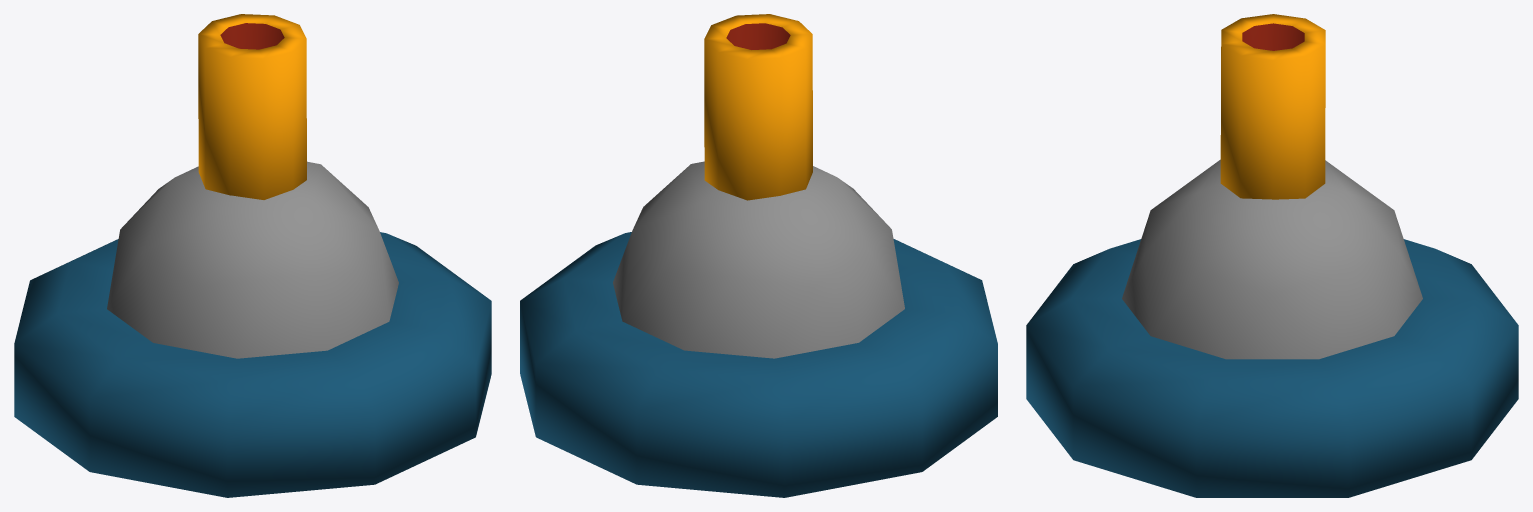
Rendered from turret.glb.
3 views of the same model, side by side, from view 1: azimuth 30°, elevation 25°; view 2: azimuth 150°, elevation 25°; view 3: azimuth 270°, elevation 25° (orthographic).
Visible parts, largest first — view 1: TurretBase, Cannon; view 2: TurretBase, Cannon; view 3: TurretBase, Cannon.
Part boxes in pixels (left/top/right/bottom): TurretBase: left=14, top=161, right=491, bottom=497; Cannon: left=198, top=14, right=306, bottom=199; TurretBase: left=520, top=161, right=997, bottom=497; Cannon: left=704, top=14, right=812, bottom=200; TurretBase: left=1026, top=159, right=1518, bottom=497; Cannon: left=1220, top=14, right=1325, bottom=199.
Size of the model in its own units: 0.7771 by 0.6629 by 0.8171.
Materials: 1 (1 with a texture image).
